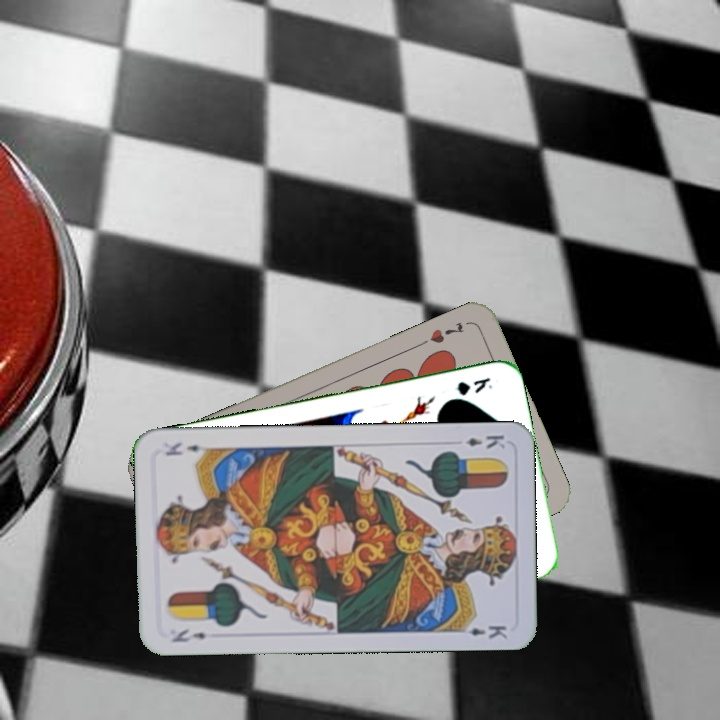EK: (462, 431, 508, 452), (168, 625, 209, 645)
GK: (452, 373, 495, 398)
H7: (415, 317, 468, 349)
